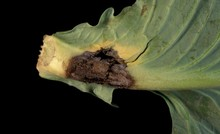damaged_cabbage: (20, 4, 218, 128)
